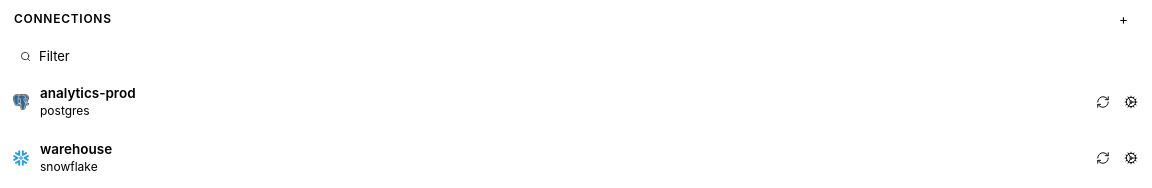
Test: CombinedConnectionsTree › filters connections by the top filter input
The image size is (1152, 188).
Type "ware" into the field with test id "connections-filter" at (584, 56), box [37,46,1132,66]
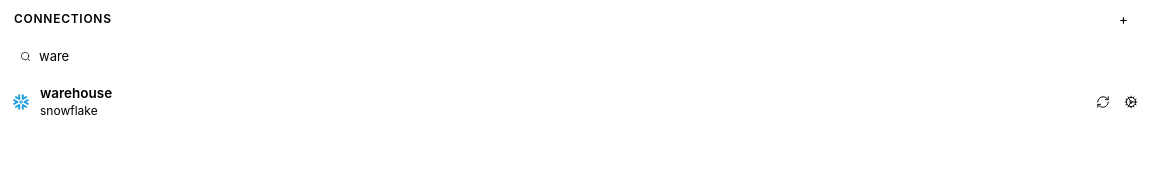
expect the element with test id "conn-card-c2" is shown: met, box [13,85,1138,118]
expect the element with test id "conn-card-c1" is gone: met
